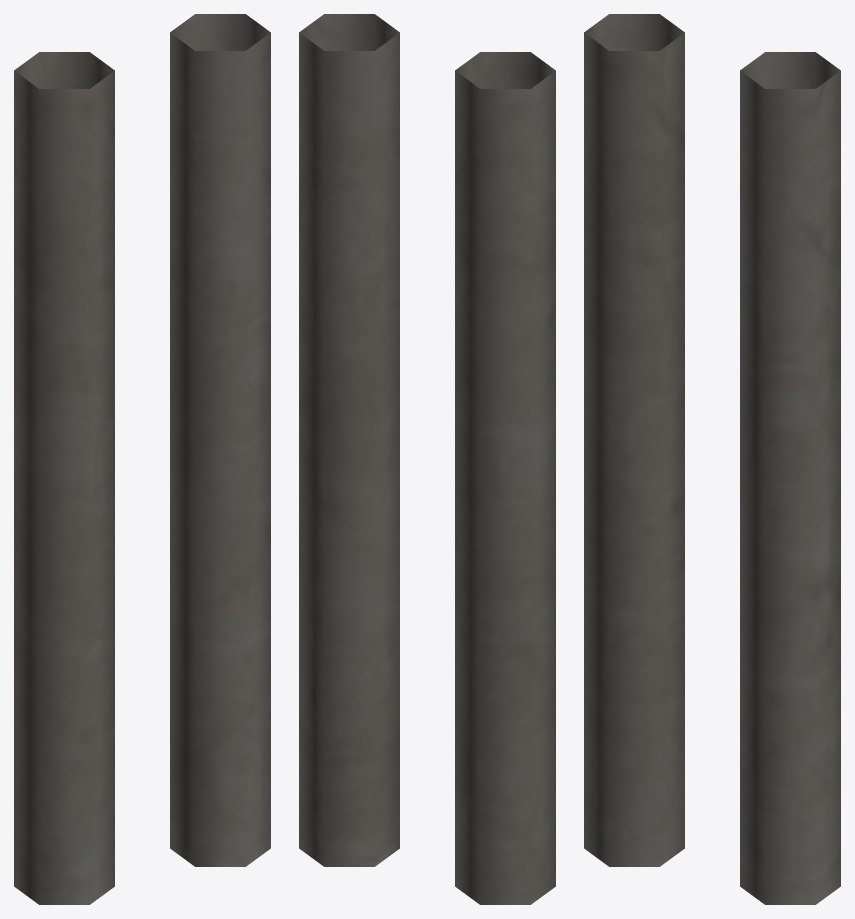
Rendered from cable_double_10cm.glb.
3 views of the same model, side by side, from view 1: azimuth 30°, elevation 25°; view 2: azimuth 150°, elevation 25°; view 3: azimuth 330°, elevation 25° (orthographic).
Visible parts, largest first — view 1: cable_double_10cm.001; view 2: cable_double_10cm.001; view 3: cable_double_10cm.001.
Part boxes in pixels (left/top/right/bottom): cable_double_10cm.001: left=14, top=14, right=270, bottom=904; cable_double_10cm.001: left=299, top=14, right=555, bottom=904; cable_double_10cm.001: left=584, top=14, right=840, bottom=904.
Size of the model in its own units: 0.0297 by 0.1 by 0.0112.
Materials: 1 (1 with a texture image).
